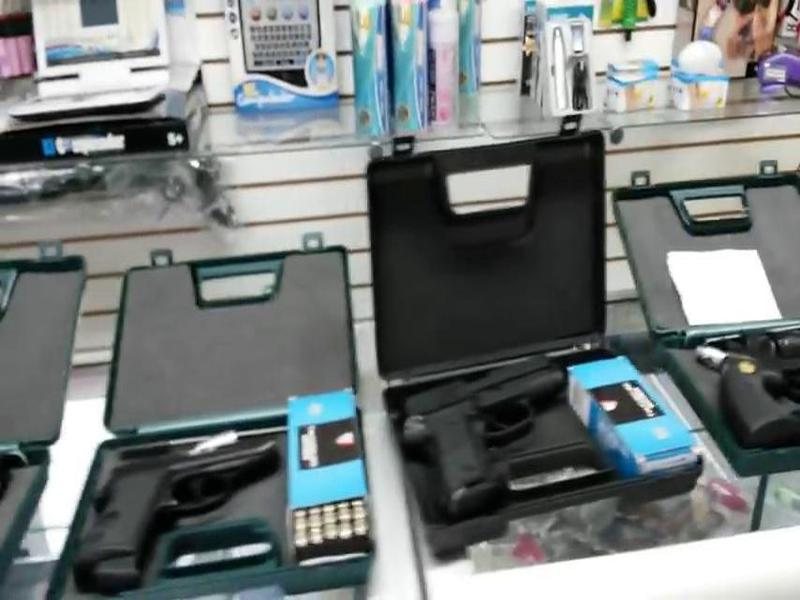Pistola: (389, 360, 571, 503)
